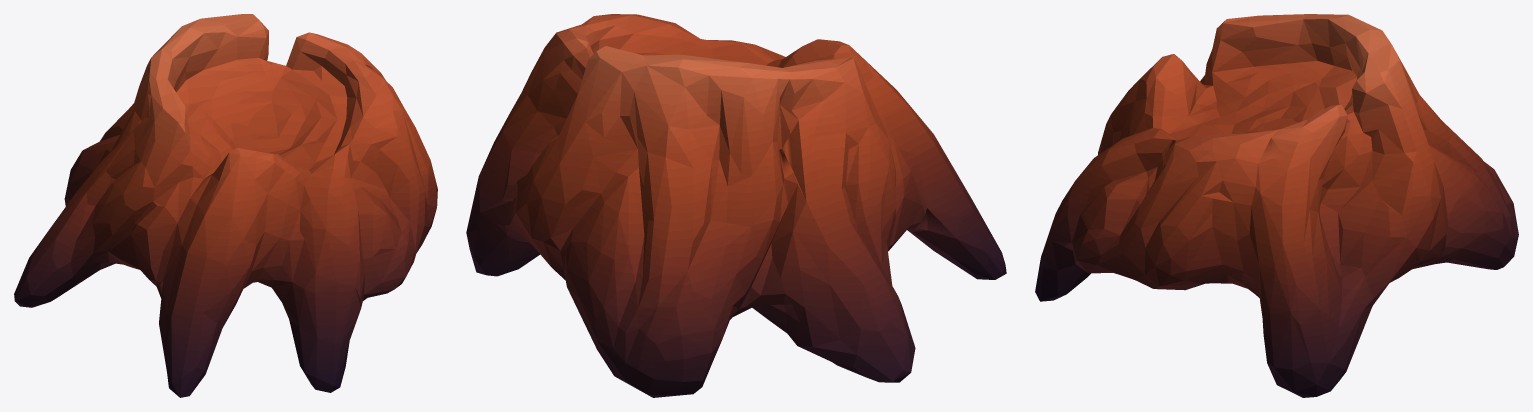
File: 03_Simple_Tree_10_4_5k_002.fbx
3 renders of one model, left to right at view 1: azimuth 30°, elevation 25°; view 2: azimuth 150°, elevation 25°; view 3: azimuth 270°, elevation 25°, orthographic. The views are drawn at different scales.
Visible parts, largest first — view 1: 03 Simple Tree 10_4_5k.002; view 2: 03 Simple Tree 10_4_5k.002; view 3: 03 Simple Tree 10_4_5k.002.
Boxes of the visible parts, x1=… form: 03 Simple Tree 10_4_5k.002: x1=14, y1=14, x2=437, y2=397; 03 Simple Tree 10_4_5k.002: x1=466, y1=14, x2=1006, y2=397; 03 Simple Tree 10_4_5k.002: x1=1035, y1=14, x2=1518, y2=397.
Size of the model in its own units: 340 by 211 by 336.
